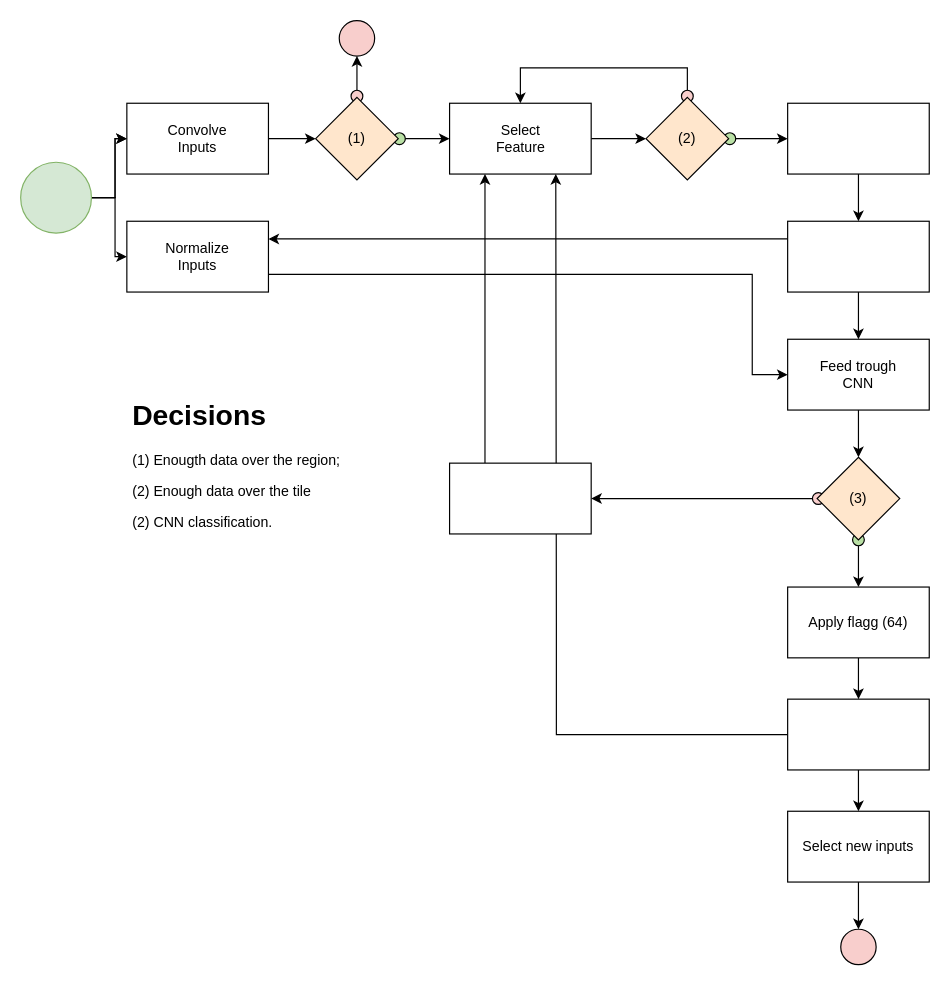
Image size: 950x985. Some labels were removed from this diagram. The shapes that lost their labels are listed below. From the top down, each one's box as (x1, y1, x2, y2) in pixels, then its label:
(786, 102, 929, 174): Get Index
(19, 161, 91, 233): inputs
(786, 220, 929, 292): Select tile (from index)
(448, 462, 591, 534): Apply flagg (32)
(786, 698, 929, 770): Store Coordinates
